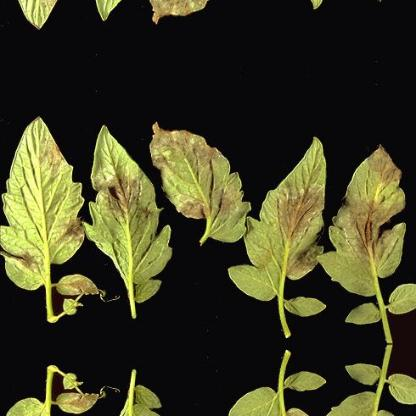Late-Blight: (87, 121, 245, 314), (256, 117, 410, 311), (2, 115, 76, 327), (87, 373, 245, 416), (256, 376, 410, 416), (2, 360, 76, 416)
